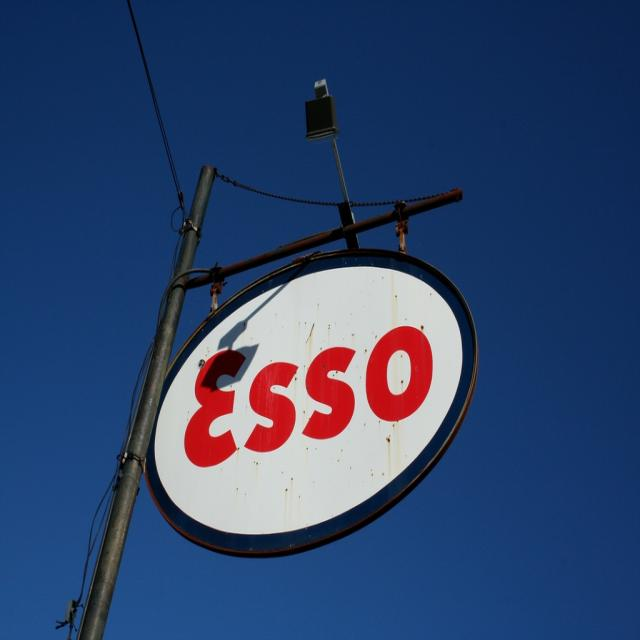esso: (146, 248, 483, 554)
